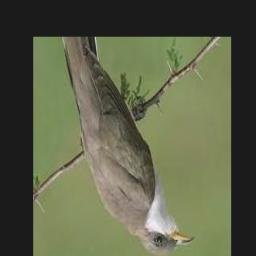Cuckoo: (61, 37, 194, 255)
